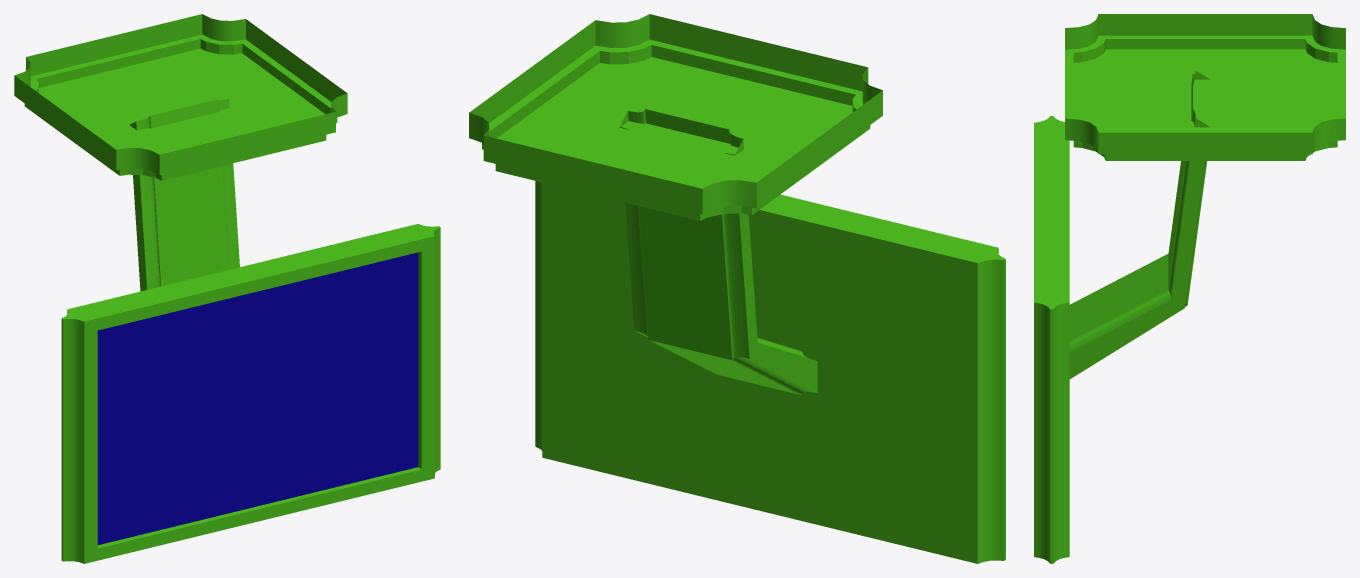
File: Monitor.fbx
The picture shows the model from 3 angles, left to right: view 1: azimuth 30°, elevation 25°; view 2: azimuth 150°, elevation 25°; view 3: azimuth 270°, elevation 25°; orthographic projection. The views are drawn at different scales.
Visible parts, largest first — view 1: Monitor; view 2: Monitor; view 3: Monitor.
Boxes of the visible parts, x1,y1,x2,y2 form: Monitor: [14, 14, 440, 563]; Monitor: [469, 14, 1005, 563]; Monitor: [1034, 14, 1345, 563].
Size of the model in its own units: 135 by 129 by 92.2.
